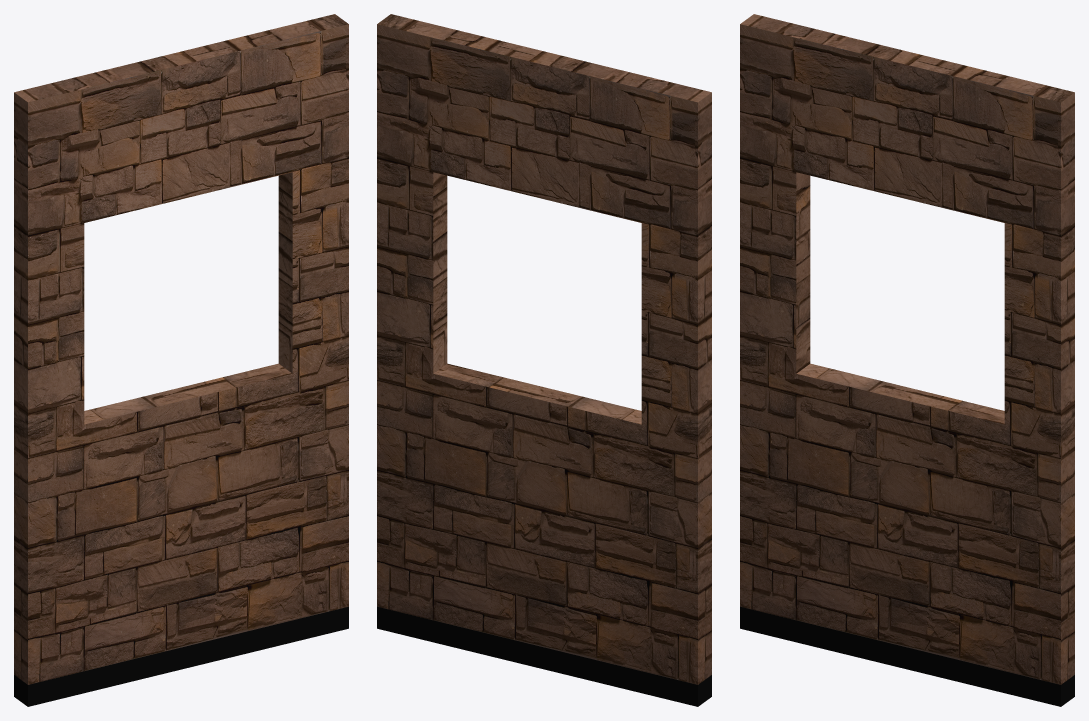
Rendered from ARC0210027.fbx.
3 renders of one model, left to right at view 1: azimuth 30°, elevation 25°; view 2: azimuth 150°, elevation 25°; view 3: azimuth 330°, elevation 25°, orthographic.
Visible parts, largest first — view 1: smARC0210027; view 2: smARC0210027; view 3: smARC0210027.
Part boxes in pixels (x1,y1,x2,y2): smARC0210027: (14,14,348,706); smARC0210027: (377,14,711,706); smARC0210027: (740,14,1074,706).
Size of the model in its own units: 182 by 328 by 13.67.
1 material, 1 textured.
